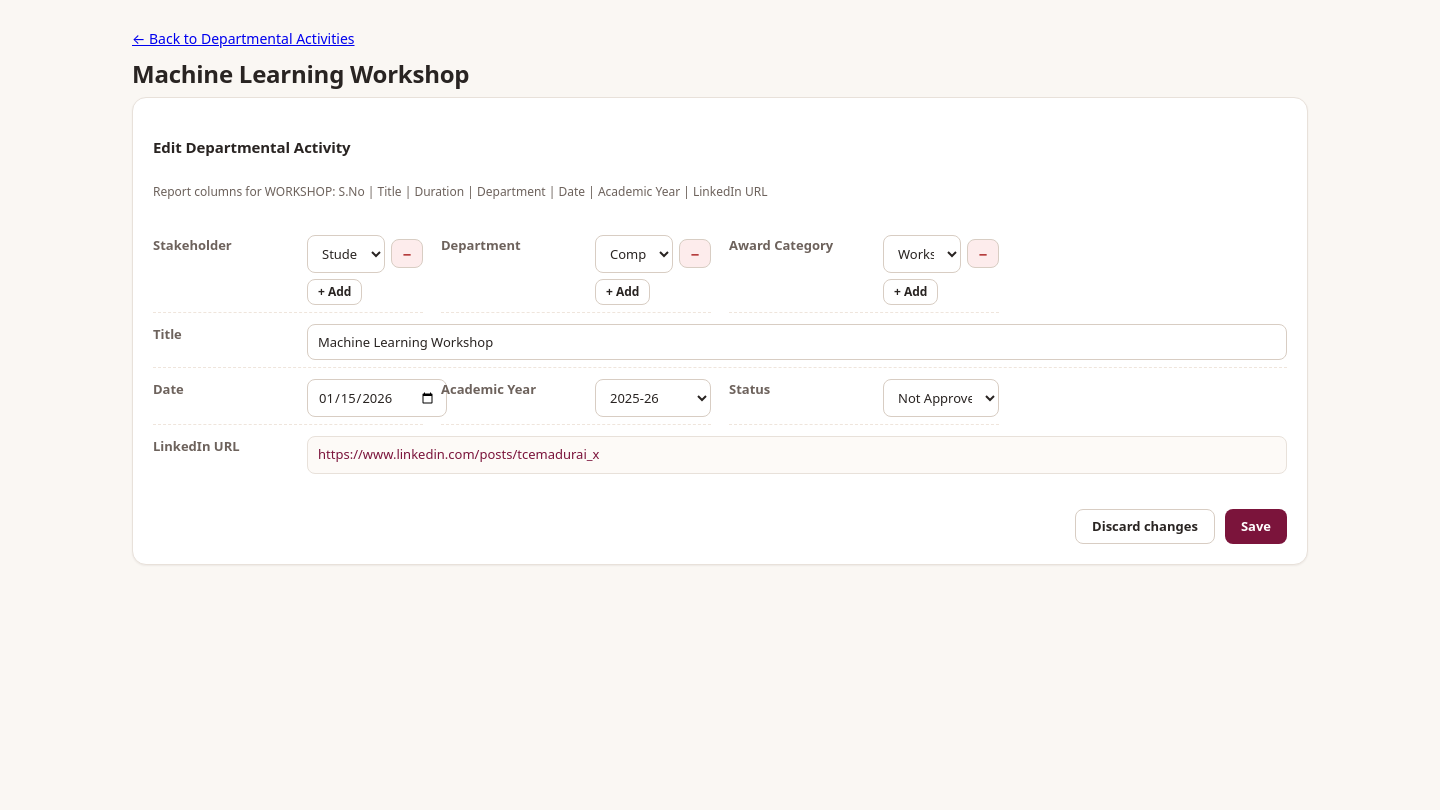
Test case: LinkedIn Admin Departmental Detail › adds a second stakeholder and sends both in the PATCH payload
expect the dropdown labelled "Stakeholder" is shown: met, box [307,235,385,273]
Click the button with aria-label "Add Stakeholder": point(335, 292) [307,279,362,305]
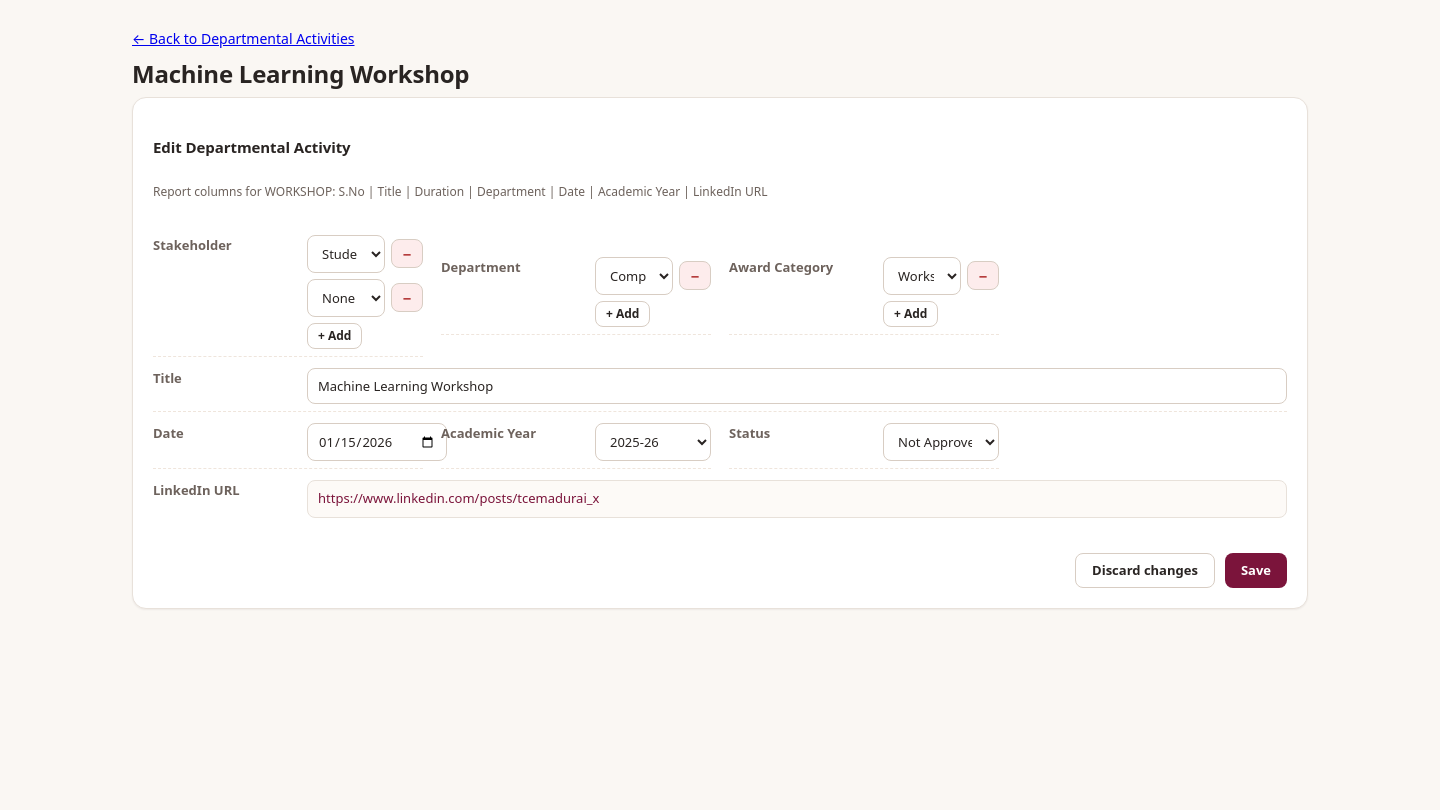
Select "Faculty" in the dropdown named "Stakeholder 2": point(346, 298) [307,279,385,317]
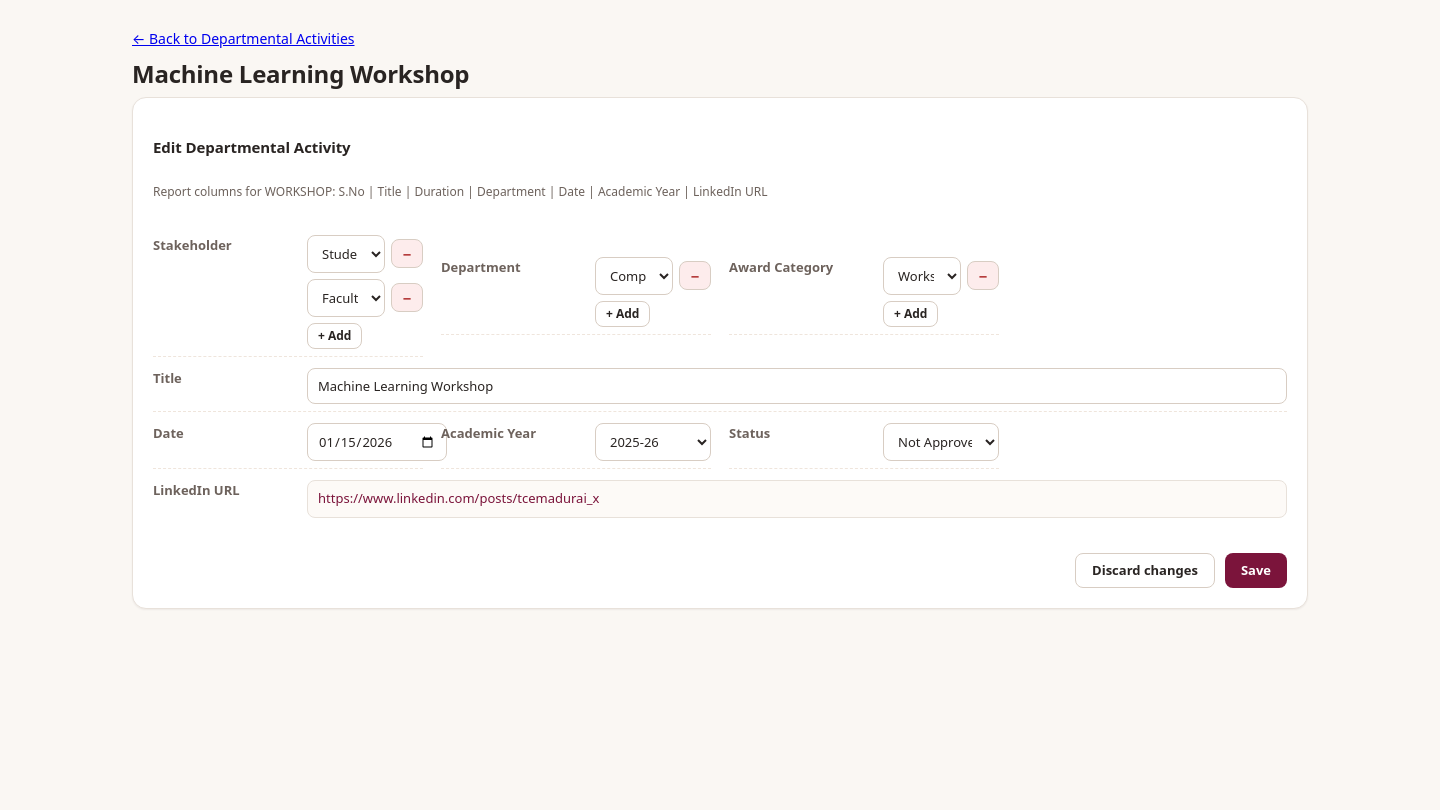
Click the button "Save": point(1256, 570) [1225,553,1287,588]
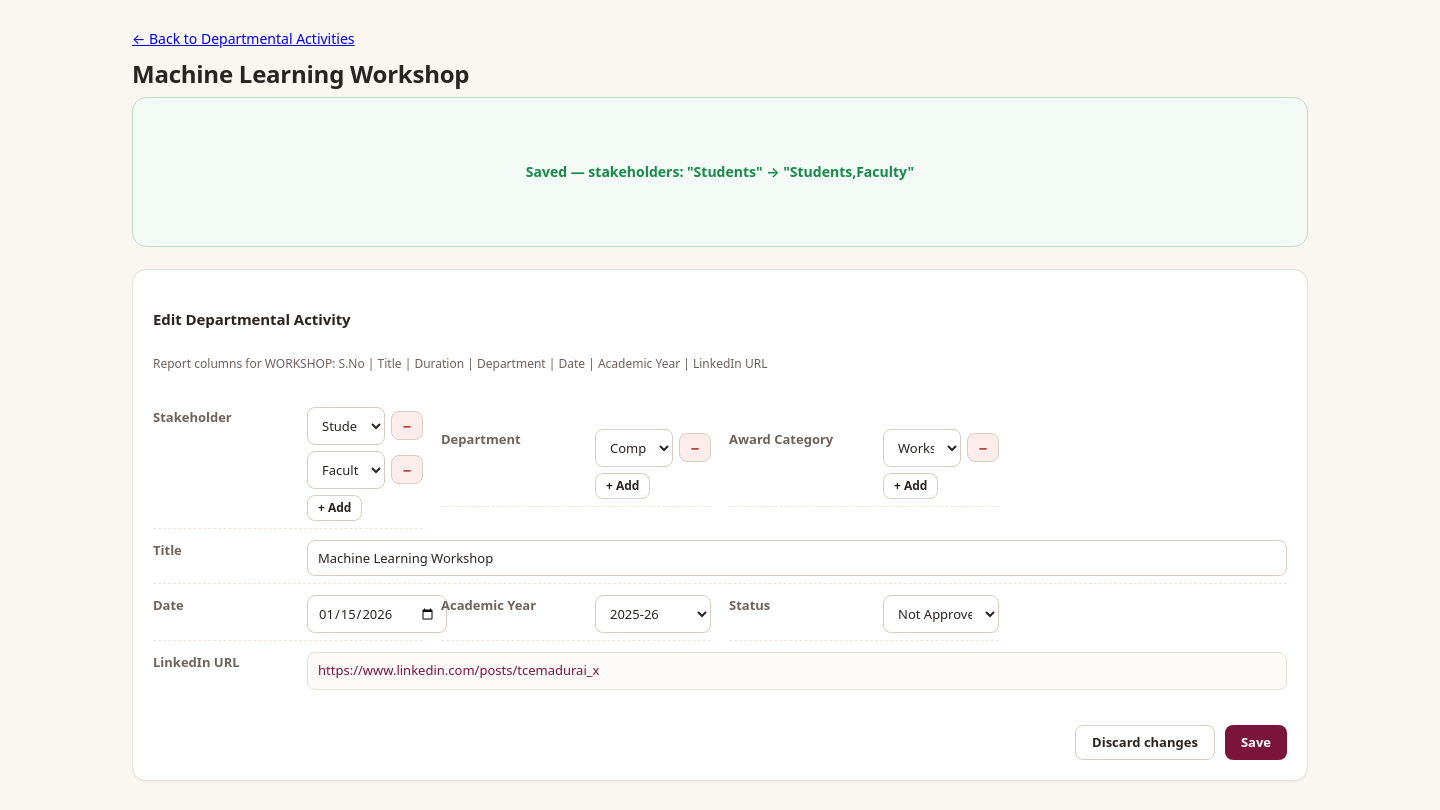
expect the text "Saved — stakeholders: \"Students\" → \"Students,Faculty\"" is shown: met, box [132,97,1308,247]
